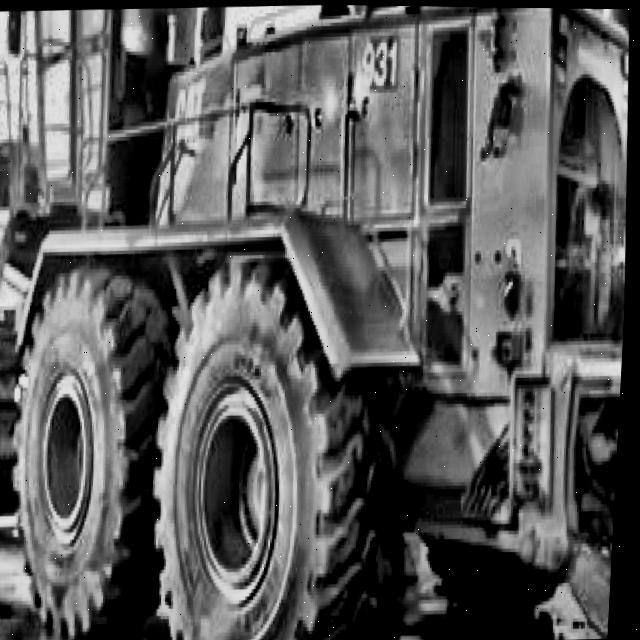buldozerpayloadergrader: (0, 232, 394, 640)
